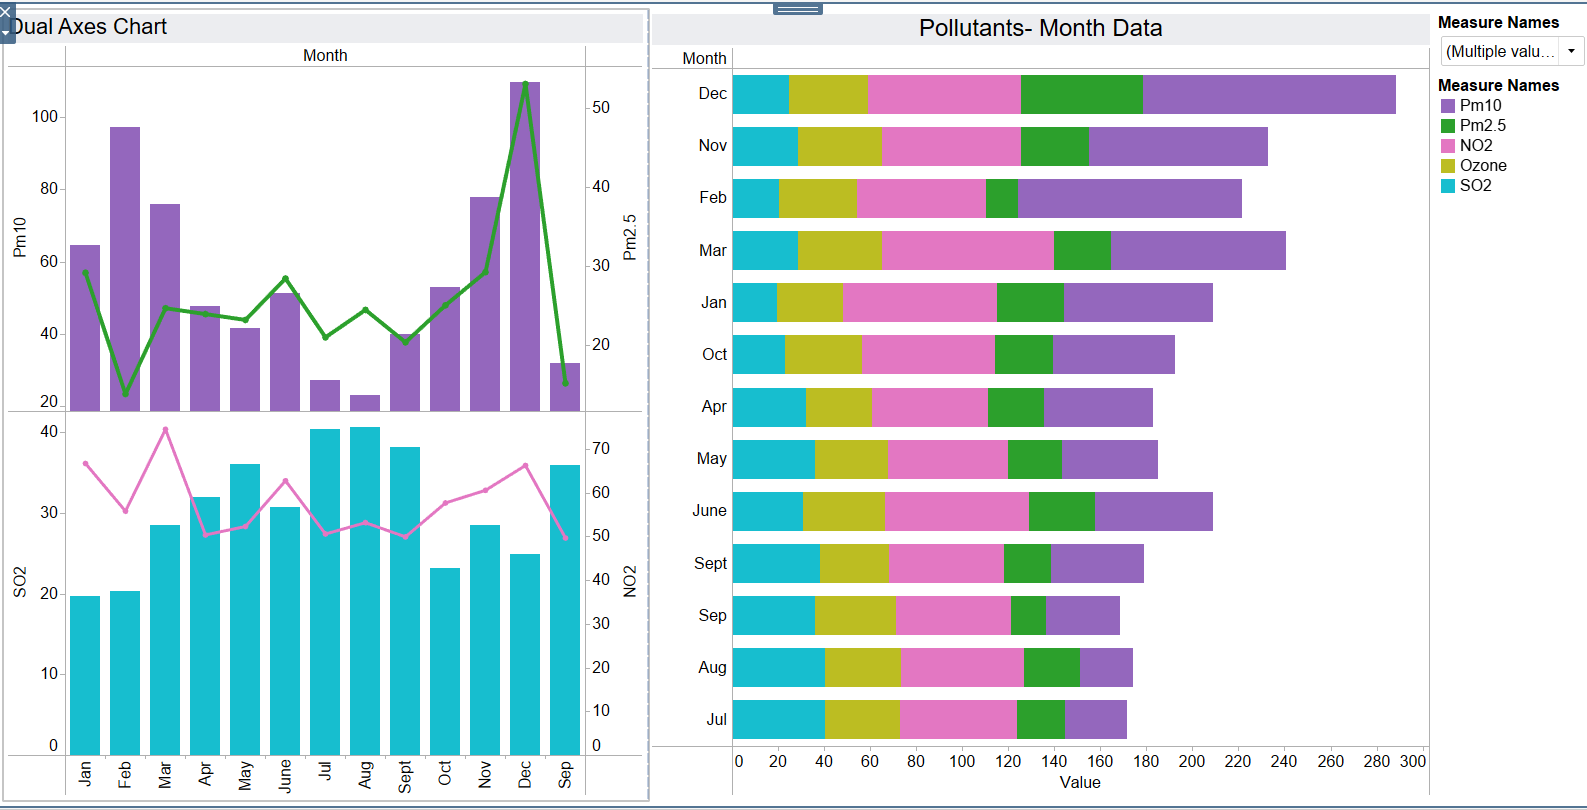

Layout of this report page (visuals, bound fields, positions):
{"tool":"tableau","page":{"name":"Dashboard 2","canvas":[1000,1000],"units":"permille","ordinal":1},"visuals":[{"type":"worksheet","title":"Dual Axes Chart(PM 2.5 vs PM 10)","mark":"Line","rows":["PM10","PM2.5","SO2","NO2"],"cols":["Month"],"box":[6.9,13.5,423.7,973]},{"type":"worksheet","title":"Pollutants- Month Data","mark":"Automatic","rows":["Month"],"box":[430.6,13.5,423.9,973]},{"type":"filter","title":"Pollutants- Month Data","param":"[federated.0uzotkn0gdtb6i15t2zsz07m4dkj].[:Measure Names]","box":[854.5,13.5,138.5,81.1]},{"type":"legend","title":"Pollutants- Month Data","param":"[federated.0uzotkn0gdtb6i15t2zsz07m4dkj].[:Measure Names]","box":[854.5,94.6,138.5,172.3]},{"type":"highlighter","title":"Pollutants- Month Data","param":"[federated.0uzotkn0gdtb6i15t2zsz07m4dkj].[:Measure Names]","box":[854.5,266.9,138.5,82.8]}]}

Visuals, with their boxes on the dashboard's canvas, which has no fixed pixel size, in thousandths of its width and height (x1, y1, x2, y2). These are canvas units, not pixel positions in the 1587x810 screenshot, which may show the page scaled, cropped or inside an application window:
"Dual Axes Chart(PM 2.5 vs PM 10)" worksheet (Line marks): (7,14,431,986)
"Pollutants- Month Data" worksheet: (431,14,854,986)
"Pollutants- Month Data" filter: (854,14,993,95)
"Pollutants- Month Data" legend: (854,95,993,267)
"Pollutants- Month Data" highlighter: (854,267,993,350)
